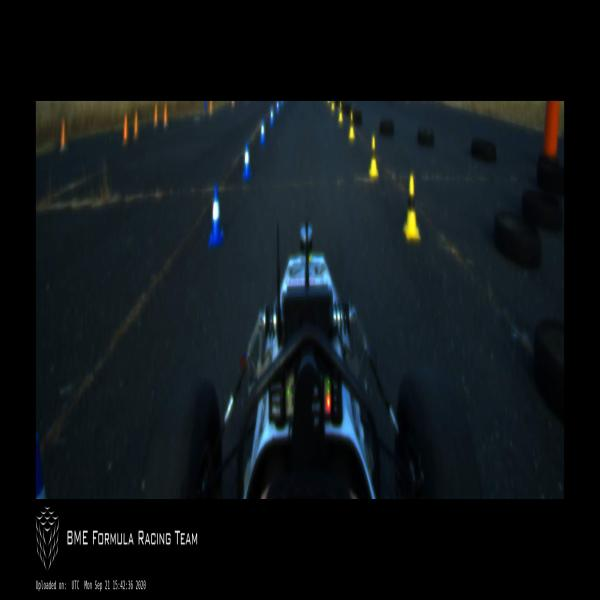blue_cone: (208, 183, 224, 247), (36, 433, 44, 498), (241, 139, 252, 180), (259, 115, 265, 146), (269, 101, 275, 126), (276, 101, 279, 117), (204, 101, 207, 112), (280, 101, 284, 109)
unknown_cone: (132, 110, 140, 141), (122, 113, 129, 147), (60, 120, 67, 151), (153, 102, 158, 128), (163, 102, 168, 128), (209, 101, 213, 113), (231, 101, 235, 107)
yellow_cone: (403, 174, 420, 239), (369, 135, 378, 179), (348, 112, 354, 140), (338, 102, 343, 122), (331, 101, 335, 112), (327, 101, 330, 104)
